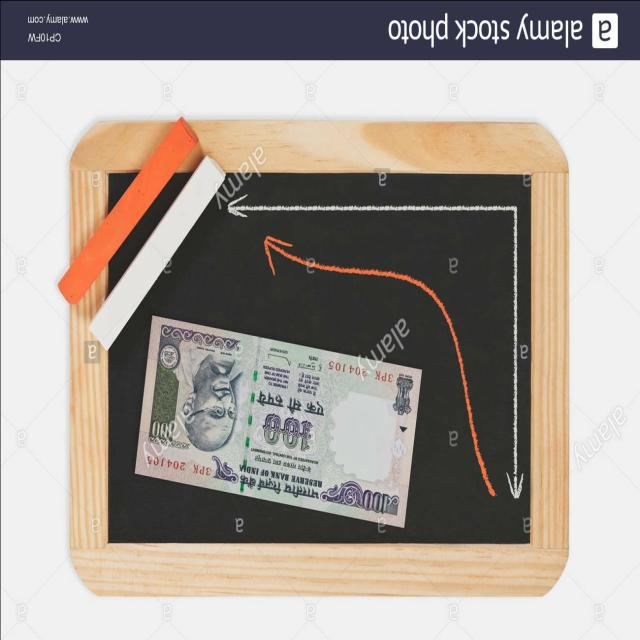100IndianRupees: (137, 312, 422, 530)
